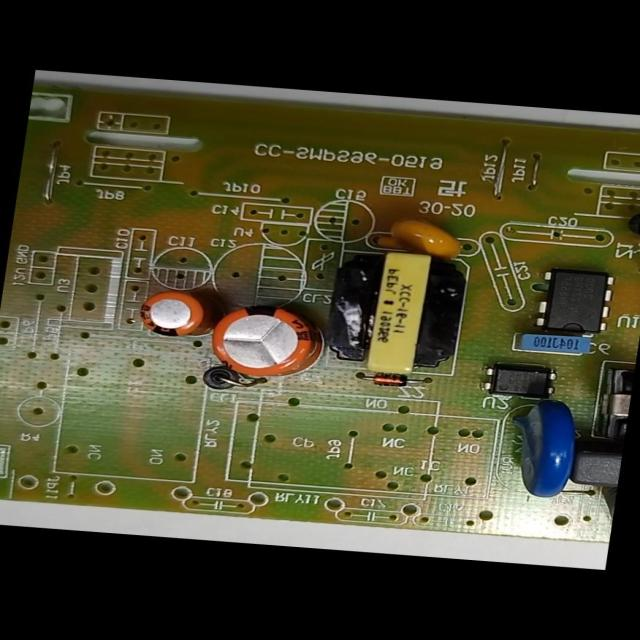Cap1: (203, 290, 333, 387)
Cap2: (130, 282, 224, 346)
MOSFET: (522, 258, 624, 344)
Mov: (492, 392, 586, 504)
Resistor: (588, 484, 616, 534)
Transformer: (312, 238, 472, 383)
